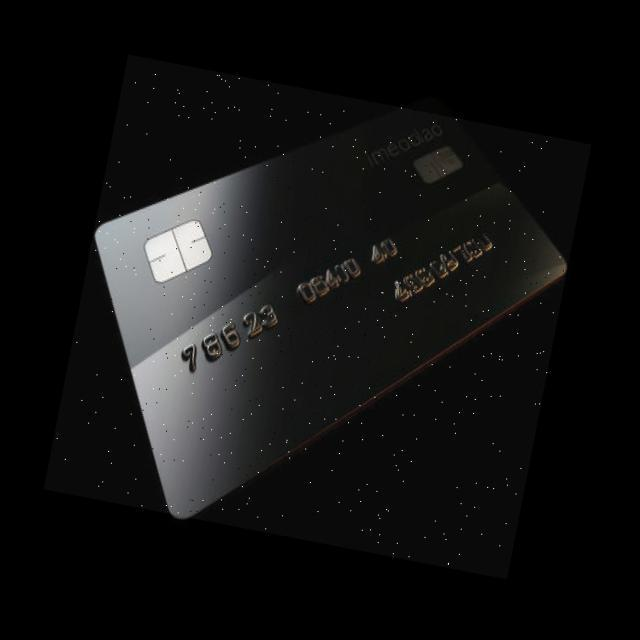payment_card: (95, 91, 565, 517)
